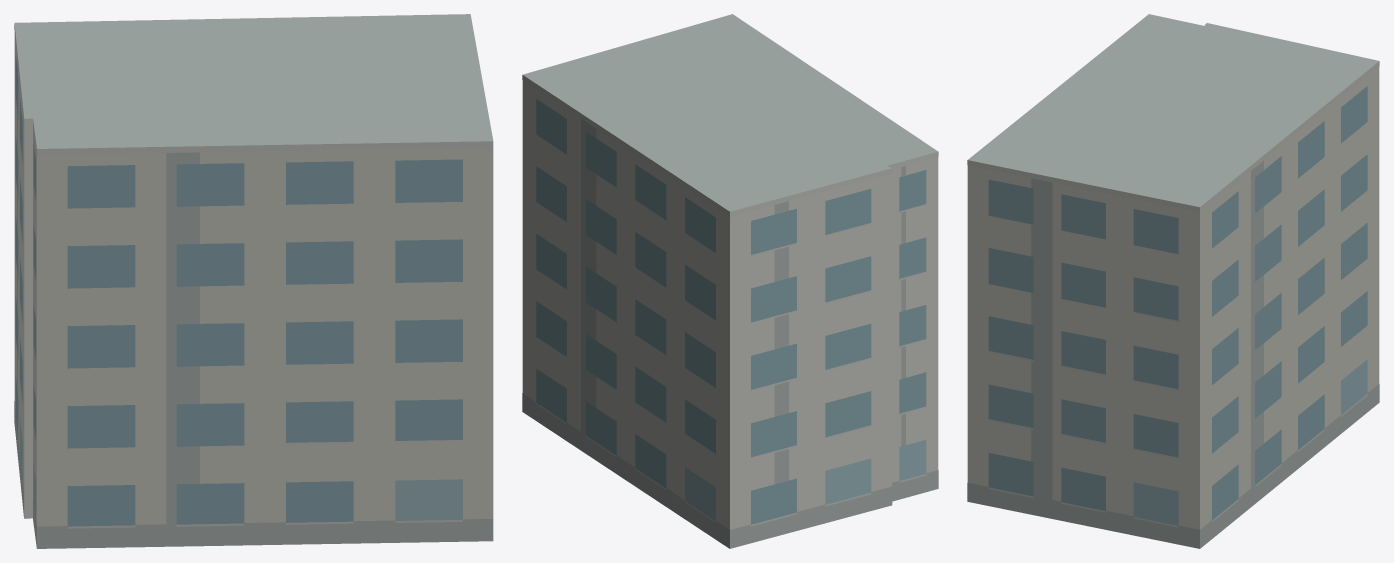
Rendered from survey-upis-32885576.glb.
3 renders of one model, left to right at view 1: azimuth 30°, elevation 25°; view 2: azimuth 150°, elevation 25°; view 3: azimuth 270°, elevation 25°, orthographic. The views are drawn at different scales.
Visible parts, largest first — view 1: survey-upis-32885576.tmp; view 2: survey-upis-32885576.tmp; view 3: survey-upis-32885576.tmp.
Boxes of the visible parts, <box> form: survey-upis-32885576.tmp: <box>14,14,493,548</box>; survey-upis-32885576.tmp: <box>522,14,938,548</box>; survey-upis-32885576.tmp: <box>967,14,1379,548</box>.
Bounding box in the file's own units: 19.11 × 15.75 × 17.22.
